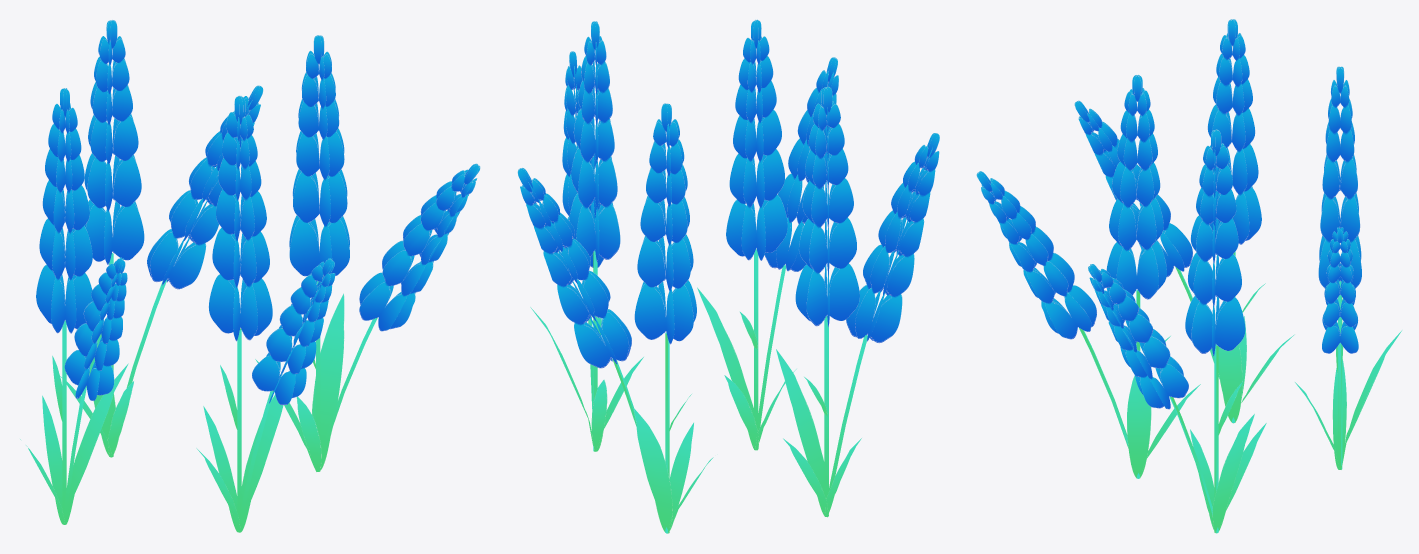
File: Flowers_n03_06.fbx
3 renders of one model, left to right at view 1: azimuth 30°, elevation 25°; view 2: azimuth 150°, elevation 25°; view 3: azimuth 270°, elevation 25°, orthographic. The views are drawn at different scales.
Parts seen in each view (by area): view 1: polySurface470; view 2: polySurface470; view 3: polySurface470.
Part boxes in pixels (x1=…): polySurface470: x1=20, y1=20, x2=480, y2=532; polySurface470: x1=517, y1=19, x2=939, y2=533; polySurface470: x1=976, y1=19, x2=1402, y2=533.
Size of the model in its own units: 80.48 by 89.23 by 84.57.
Materials: 1 (1 with a texture image).
